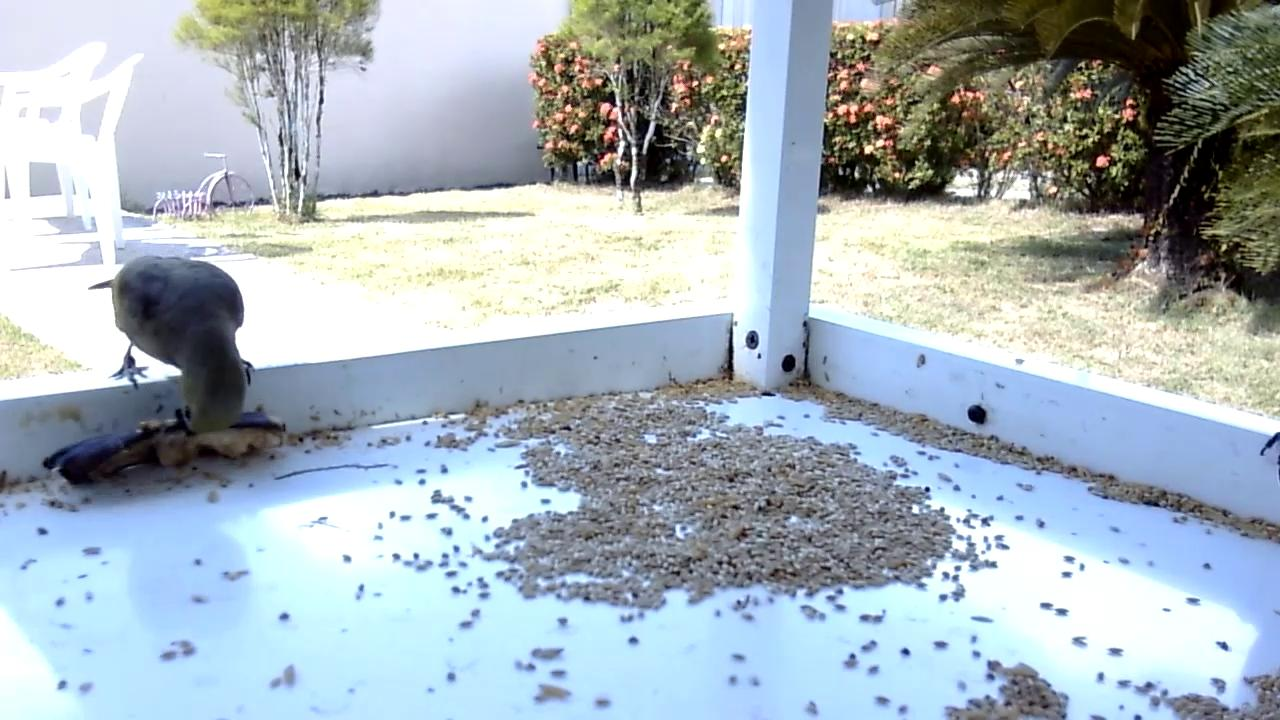sanhaco_do_coqueiro: (88, 257, 257, 438)
